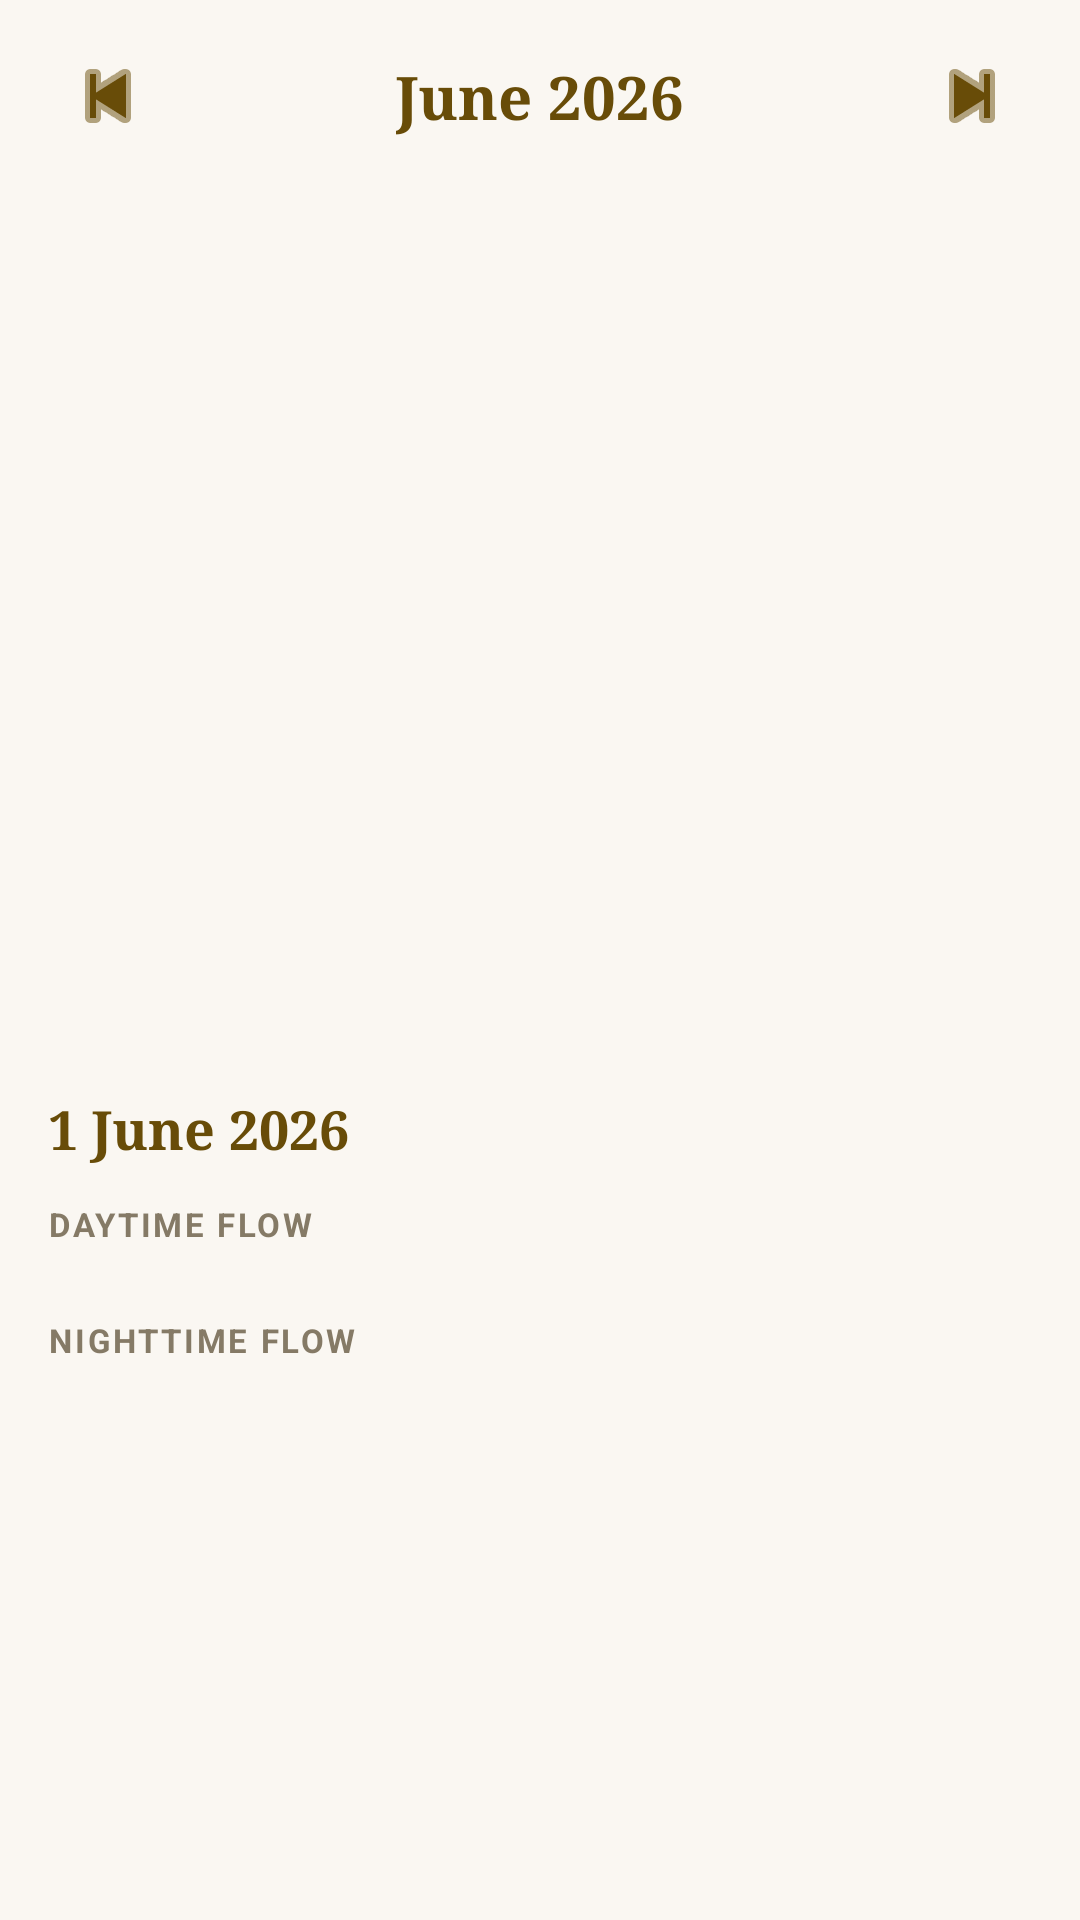

Where to tap for icons on this 1080w x 1920h app screen, as [x,y]:
next: [972,96]
previous: [108,96]
